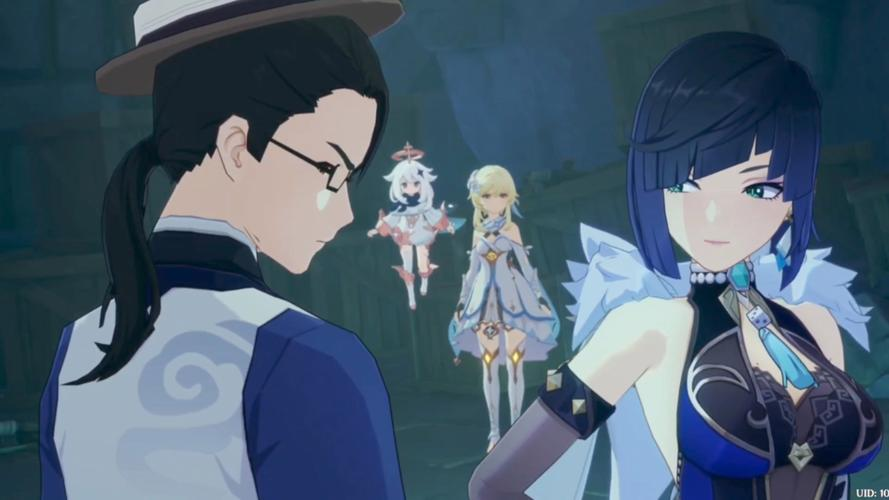夜兰: (450, 36, 887, 500)
